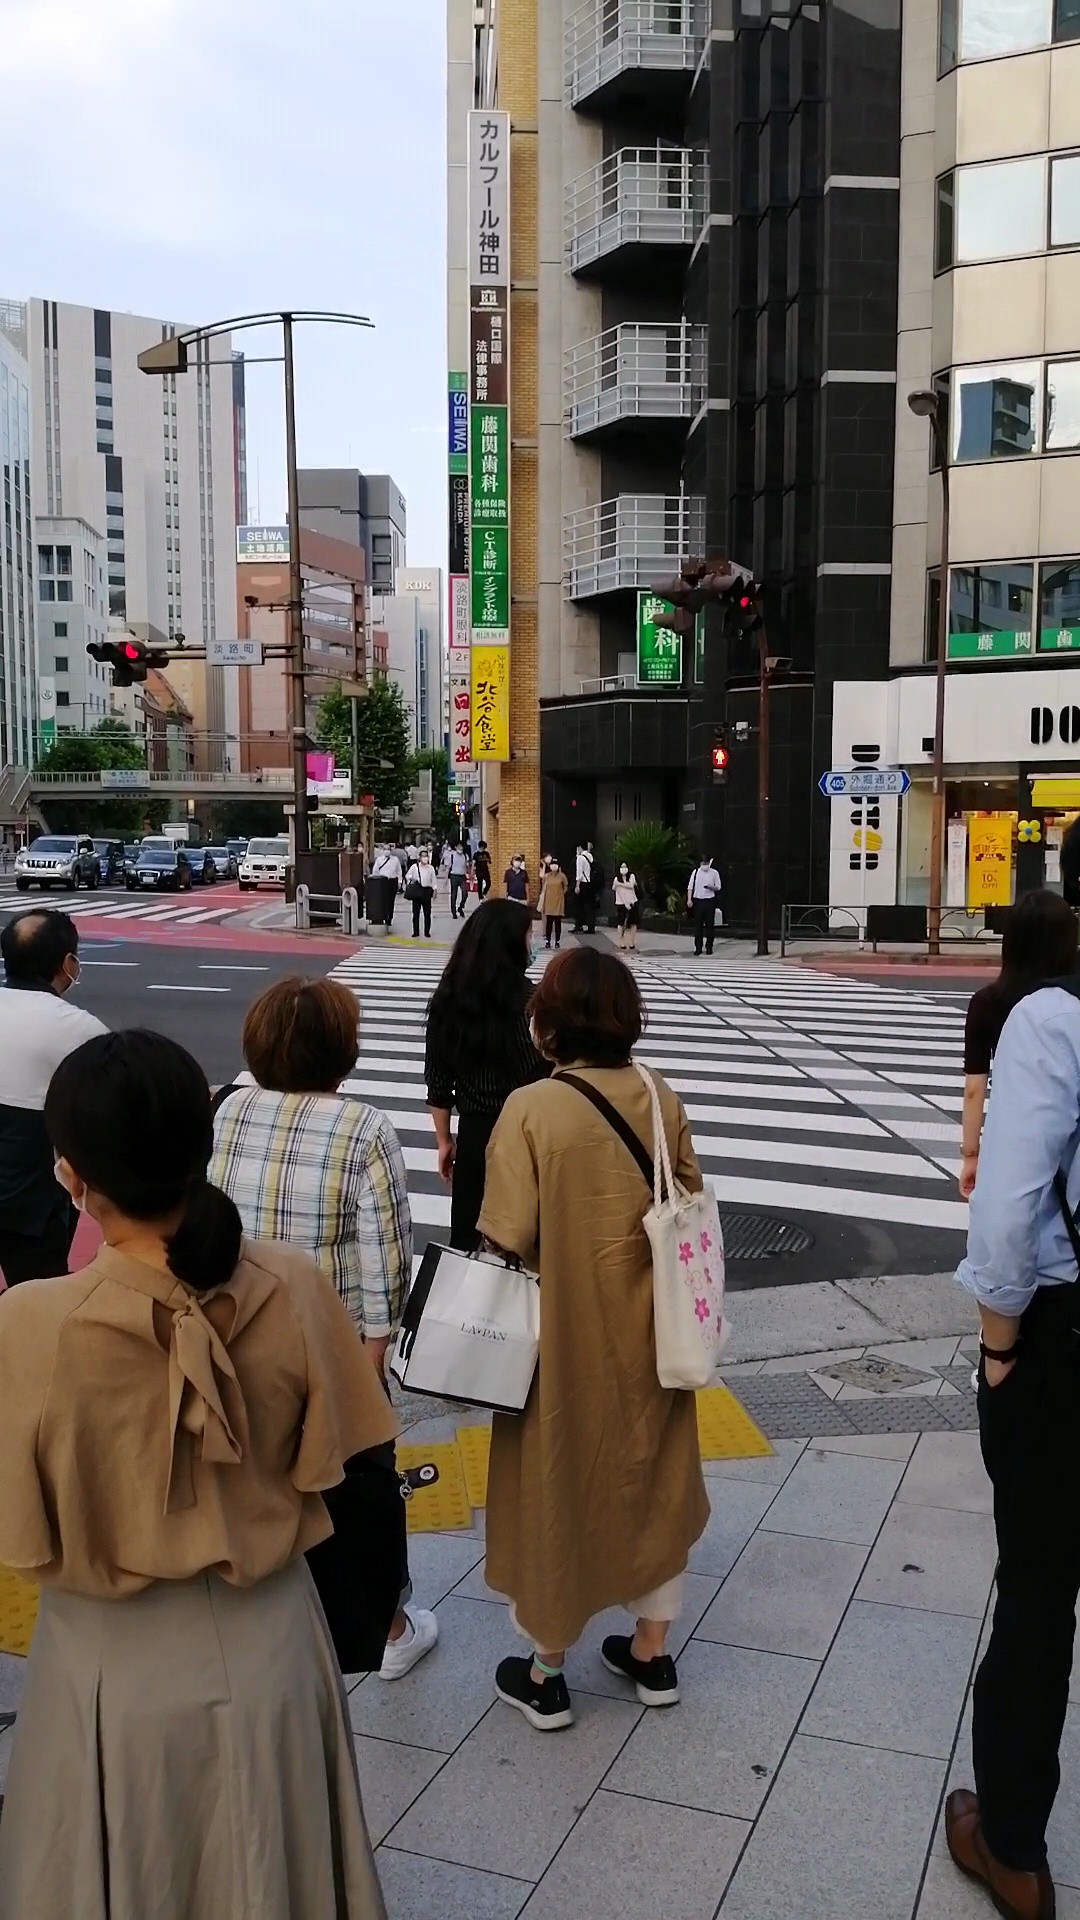red: (707, 745, 733, 790)
